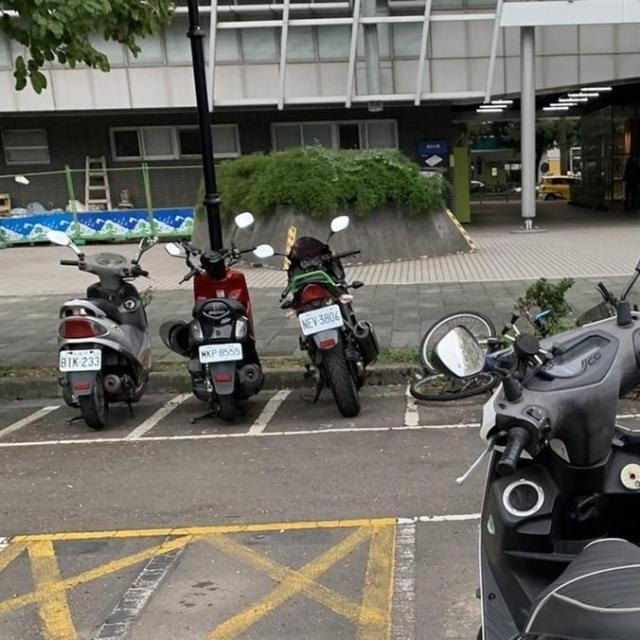W: (290, 300, 349, 337), (53, 344, 106, 376), (195, 338, 245, 365)
